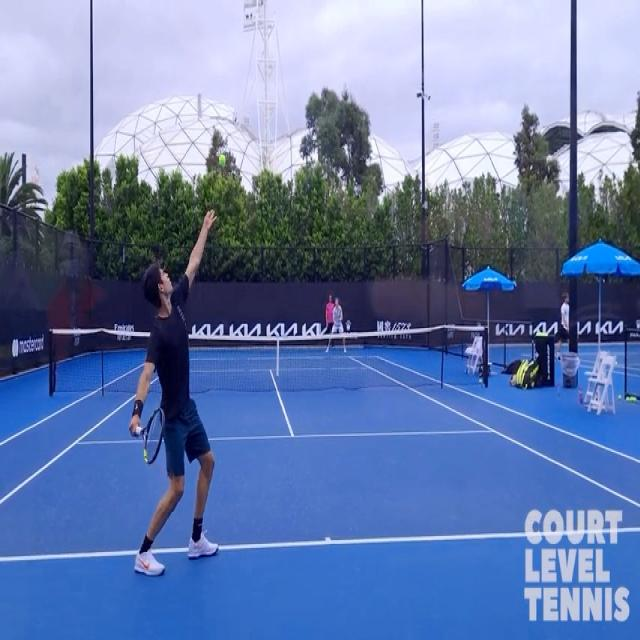serve_toss: (127, 211, 225, 573)
